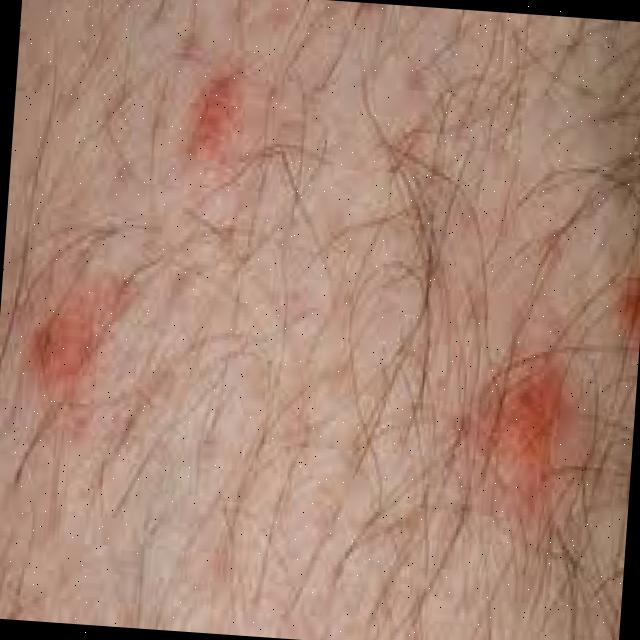kan emici bocekler: (422, 343, 587, 519), (174, 65, 255, 175)
